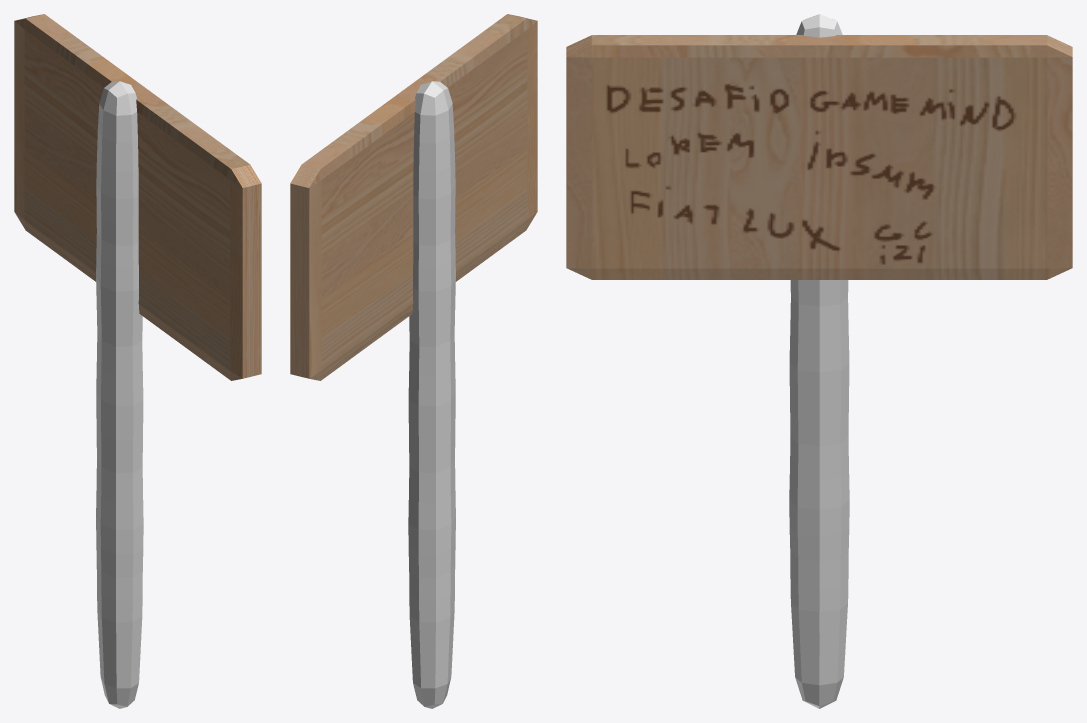
Rendered from plate.fbx.
The picture shows the model from 3 angles, left to right: view 1: azimuth 30°, elevation 25°; view 2: azimuth 150°, elevation 25°; view 3: azimuth 270°, elevation 25°; orthographic projection. The views are drawn at different scales.
Parts seen in each view (by area): view 1: Cube.001, Cube; view 2: Cube.001, Cube; view 3: Cube.001, Cube.
Boxes of the visible parts, <box> form: Cube.001: <box>14,14,261,380</box>; Cube: <box>96,81,143,708</box>; Cube.001: <box>290,14,537,380</box>; Cube: <box>408,81,455,708</box>; Cube.001: <box>566,35,1072,279</box>; Cube: <box>789,14,849,708</box>.
Size of the model in its own units: 27.18 by 341 by 225.
